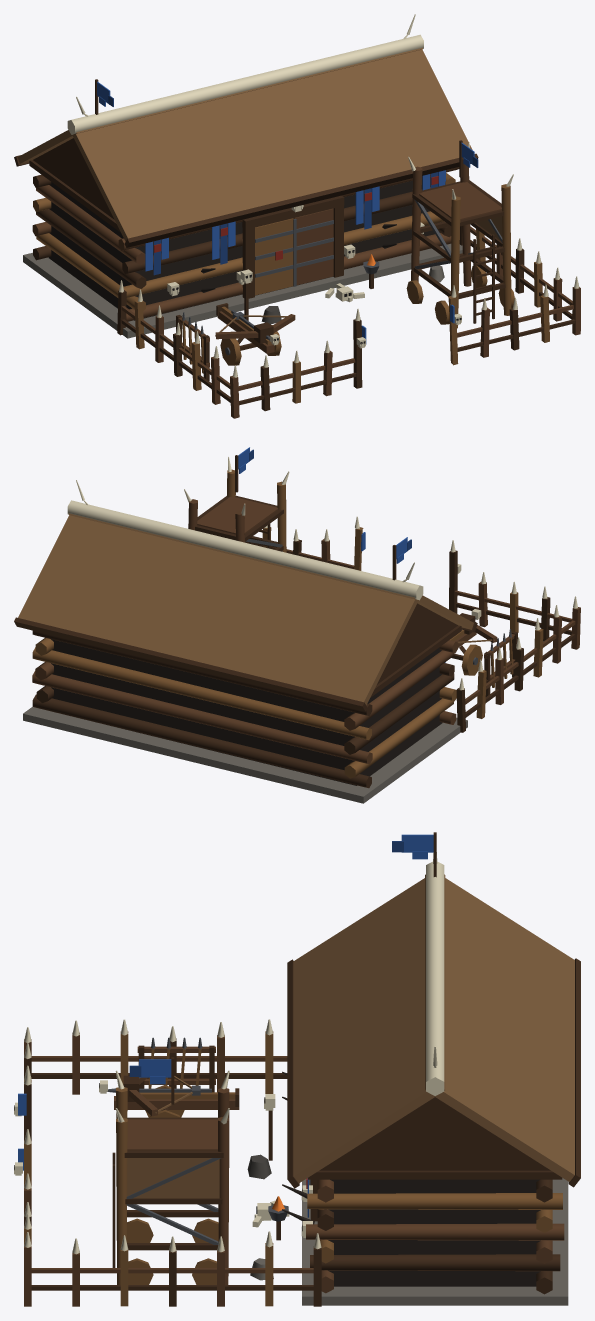
The model's file is orc-siege-workshop.glb.
3 renders of one model, top to bottom at view 1: azimuth 30°, elevation 25°; view 2: azimuth 150°, elevation 25°; view 3: azimuth 270°, elevation 25°, orthographic. The views are drawn at different scales.
Visible parts, largest first — view 1: orc-siege-workshop; view 2: orc-siege-workshop; view 3: orc-siege-workshop.
Part boxes in pixels (bbox=[...]): orc-siege-workshop: bbox=[14, 14, 580, 418]; orc-siege-workshop: bbox=[14, 447, 580, 803]; orc-siege-workshop: bbox=[14, 832, 580, 1306].
Size of the model in its own units: 13.11 by 7.72 by 14.48.
Materials: 1 (1 with a texture image).
